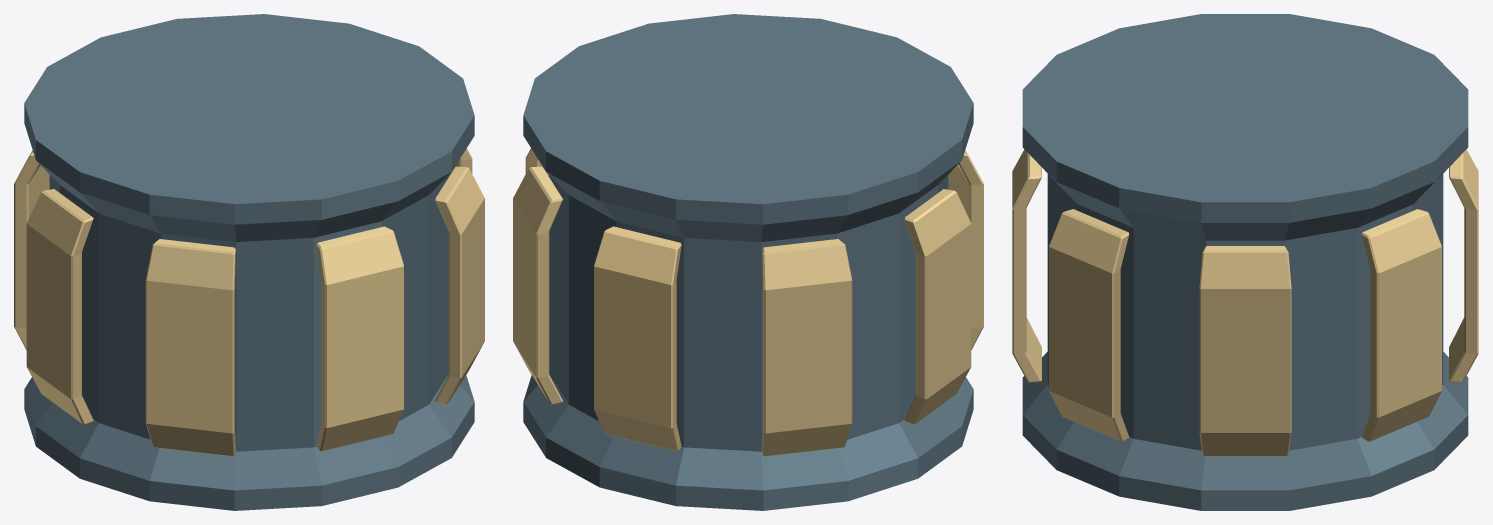
File: ER_RibbedServiceSection.fbx
3 views of the same model, side by side, from view 1: azimuth 30°, elevation 25°; view 2: azimuth 150°, elevation 25°; view 3: azimuth 270°, elevation 25° (orthographic).
Visible parts, largest first — view 1: ER_RibbedServiceSection; view 2: ER_RibbedServiceSection; view 3: ER_RibbedServiceSection.
Boxes of the visible parts, x1,y1,x2,y2 form: ER_RibbedServiceSection: (14,14,484,510); ER_RibbedServiceSection: (513,14,983,510); ER_RibbedServiceSection: (1012,14,1478,510).
Size of the model in its own units: 0.8219 by 0.6 by 0.8219.
